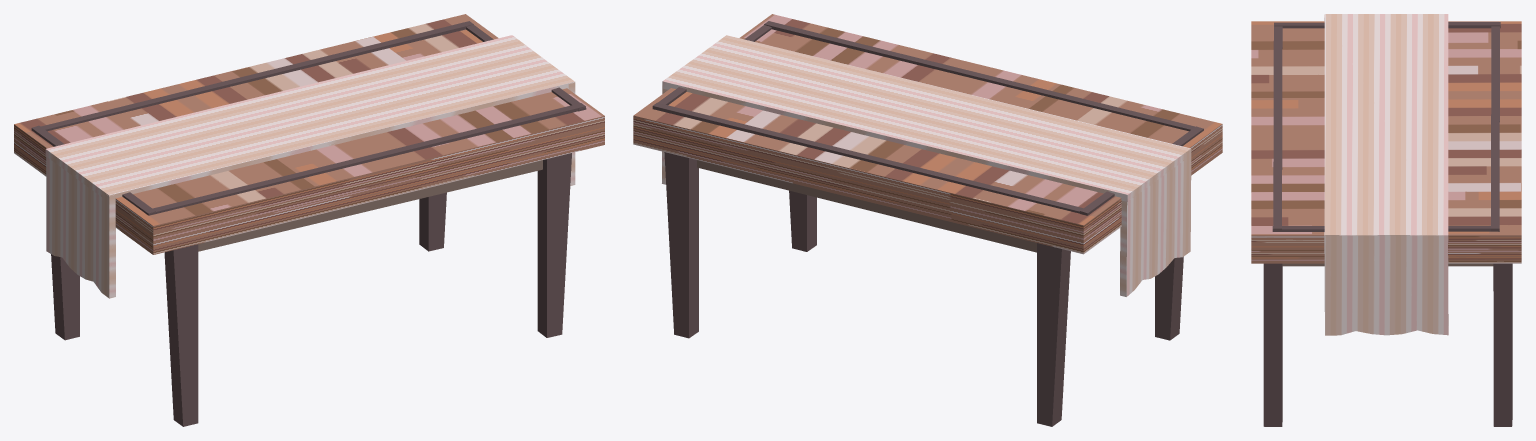
File: counter.fbx
3 renders of one model, left to right at view 1: azimuth 30°, elevation 25°; view 2: azimuth 150°, elevation 25°; view 3: azimuth 270°, elevation 25°, orthographic. The views are drawn at different scales.
Visible parts, largest first — view 1: Cube, Cube.016, Cube.004, Cube.003, Cube.001, Cube.012, Cube.010, Cube.006, Cube.005, Cube.013; view 2: Cube, Cube.016, Cube.005, Cube.006, Cube.012, Cube.001, Cube.009, Cube.003, Cube.004, Cube.013; view 3: Cube.016, Cube, Cube.005, Cube.004, Cube.001, Cube.012, Cube.013, Cube.014, Cube.008.
Boxes of the visible parts, x1=… form: Cube: x1=14, y1=14, x2=604, y2=254; Cube.016: x1=45, y1=35, x2=575, y2=298; Cube.004: x1=537, y1=153, x2=571, y2=337; Cube.003: x1=164, y1=244, x2=198, y2=426; Cube.001: x1=144, y1=103, x2=585, y2=215; Cube.012: x1=41, y1=21, x2=473, y2=131; Cube.010: x1=198, y1=160, x2=542, y2=251; Cube.006: x1=51, y1=254, x2=79, y2=340; Cube.005: x1=419, y1=192, x2=446, y2=251; Cube.013: x1=31, y1=125, x2=155, y2=214; Cube: x1=633, y1=14, x2=1222, y2=254; Cube.016: x1=662, y1=35, x2=1191, y2=296; Cube.005: x1=664, y1=152, x2=698, y2=338; Cube.006: x1=1037, y1=243, x2=1070, y2=426; Cube.012: x1=652, y1=102, x2=1083, y2=213; Cube.001: x1=764, y1=21, x2=1203, y2=133; Cube.009: x1=697, y1=160, x2=1036, y2=252; Cube.003: x1=1155, y1=256, x2=1183, y2=340; Cube.004: x1=789, y1=190, x2=816, y2=251; Cube.013: x1=1080, y1=126, x2=1203, y2=215; Cube.016: x1=1324, y1=14, x2=1448, y2=335; Cube: x1=1251, y1=21, x2=1521, y2=263; Cube.005: x1=1493, y1=263, x2=1512, y2=426; Cube.004: x1=1263, y1=263, x2=1282, y2=426; Cube.001: x1=1273, y1=23, x2=1282, y2=230; Cube.012: x1=1491, y1=26, x2=1499, y2=231; Cube.013: x1=1274, y1=22, x2=1500, y2=28; Cube.014: x1=1272, y1=225, x2=1490, y2=231; Cube.008: x1=1282, y1=263, x2=1492, y2=266.
Size of the model in its own units: 923 by 414 by 476.
